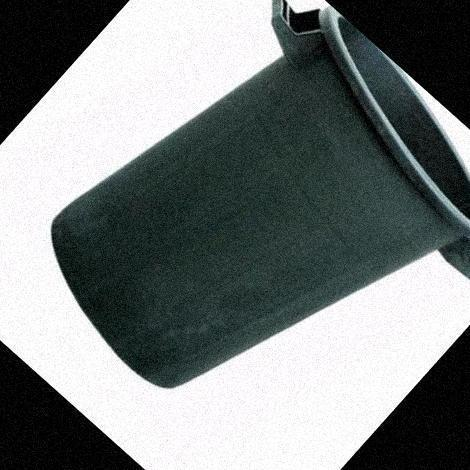Bote de Basura: (9, 0, 470, 470)
